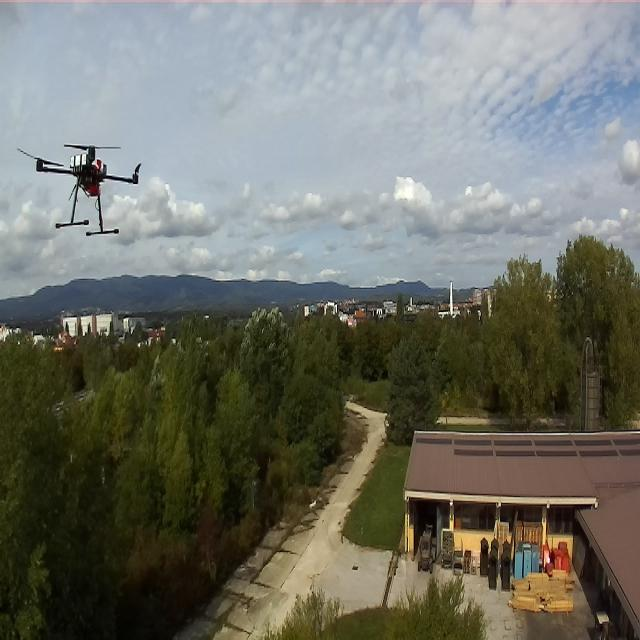UAV: (27, 138, 148, 236)
